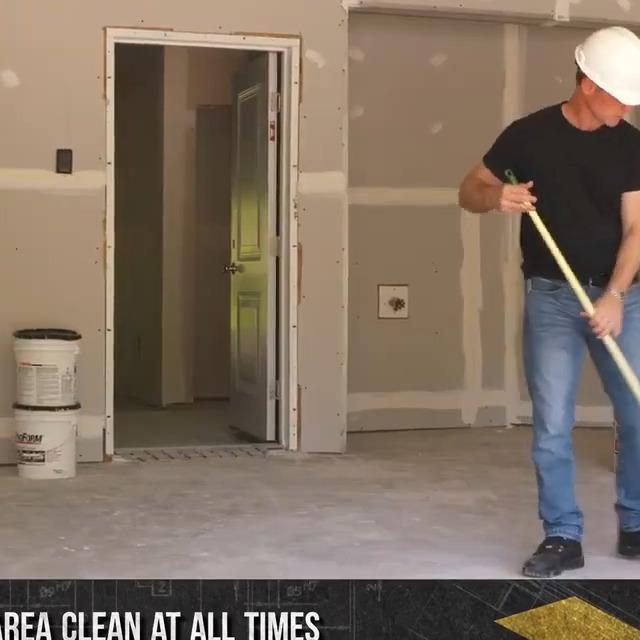Hardhat: (574, 25, 640, 106)
NO-Mask: (581, 77, 624, 129)
NO-Safety Vest: (516, 104, 636, 287)
Person: (459, 21, 640, 578)
